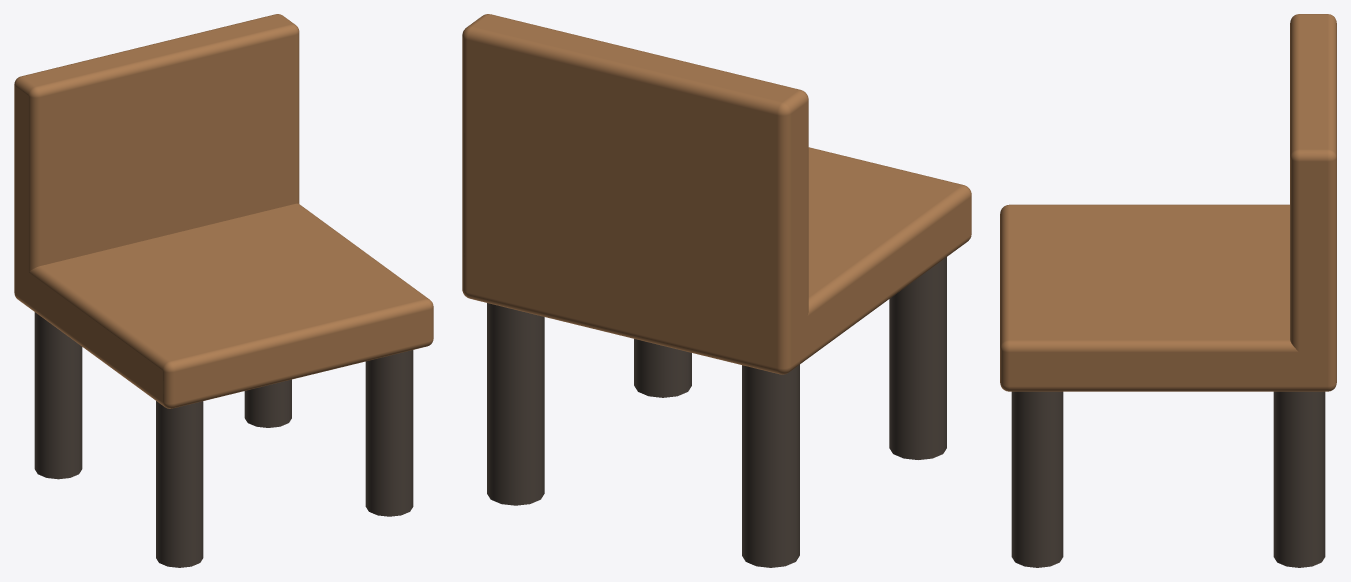
File: chair.glb
3 views of the same model, side by side, from view 1: azimuth 30°, elevation 25°; view 2: azimuth 150°, elevation 25°; view 3: azimuth 270°, elevation 25° (orthographic). The views are drawn at different scales.
Size of the model in its own units: 0.72 by 0.99 by 0.72.
